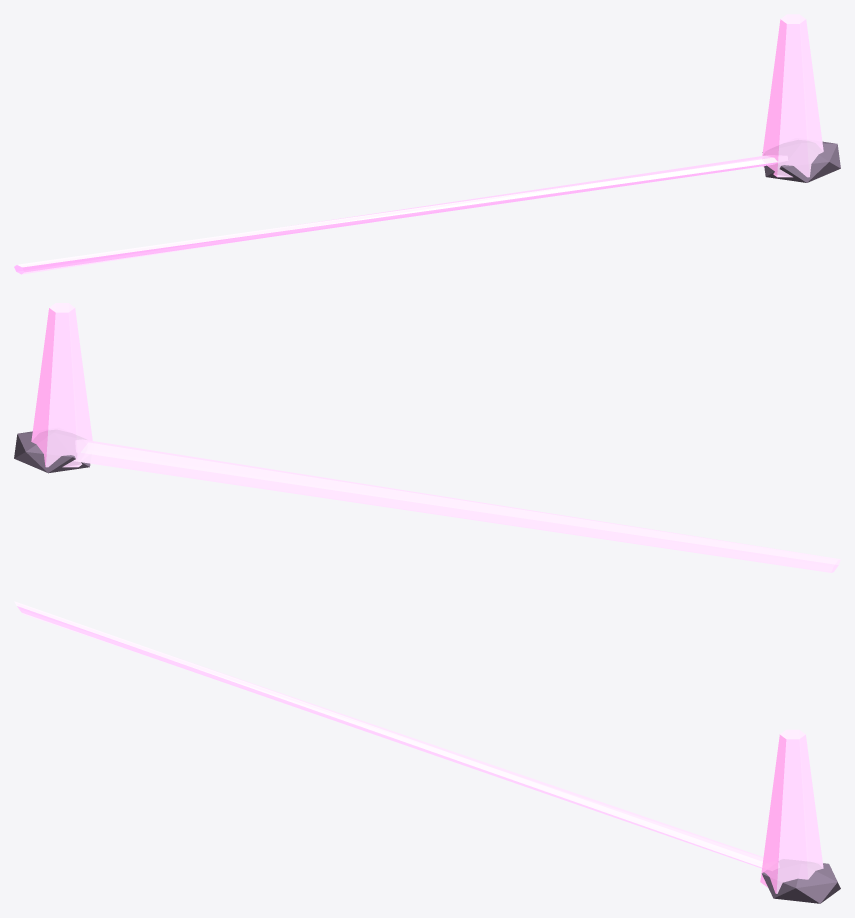
File: collectible-crystal.glb
The picture shows the model from 3 angles, top to bottom: view 1: azimuth 30°, elevation 25°; view 2: azimuth 150°, elevation 25°; view 3: azimuth 330°, elevation 25°; orthographic projection.
Parts seen in each view (by area): view 1: Coll_Crystal_Small, Coll_Crystal_Main, Coll_Crystal_Base; view 2: Coll_Crystal_Small, Coll_Crystal_Main, Coll_Crystal_Base; view 3: Coll_Crystal_Small, Coll_Crystal_Main, Coll_Crystal_Base.
Boxes of the visible parts, x1,y1,x2,y2 form: Coll_Crystal_Small: (14, 155, 777, 274); Coll_Crystal_Main: (762, 14, 823, 177); Coll_Crystal_Base: (762, 141, 840, 182); Coll_Crystal_Small: (74, 441, 840, 572); Coll_Crystal_Main: (31, 303, 92, 467); Coll_Crystal_Base: (14, 431, 90, 473); Coll_Crystal_Small: (14, 601, 763, 868); Coll_Crystal_Main: (760, 729, 823, 893); Coll_Crystal_Base: (762, 860, 840, 903).
Size of the model in its own units: 2.93 by 0.55 by 0.2042.
